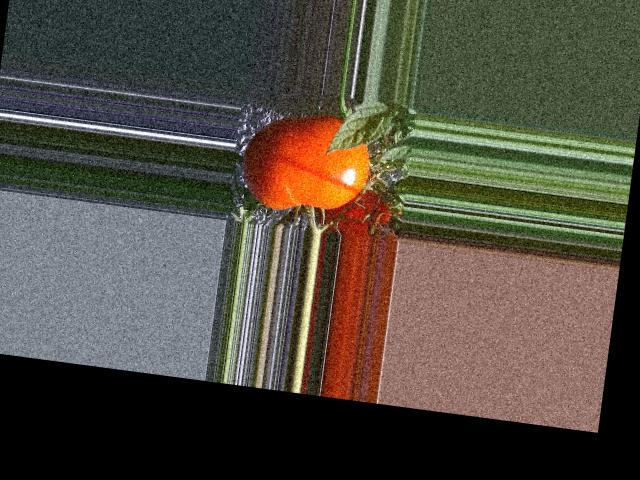tomato: (238, 105, 375, 220)
